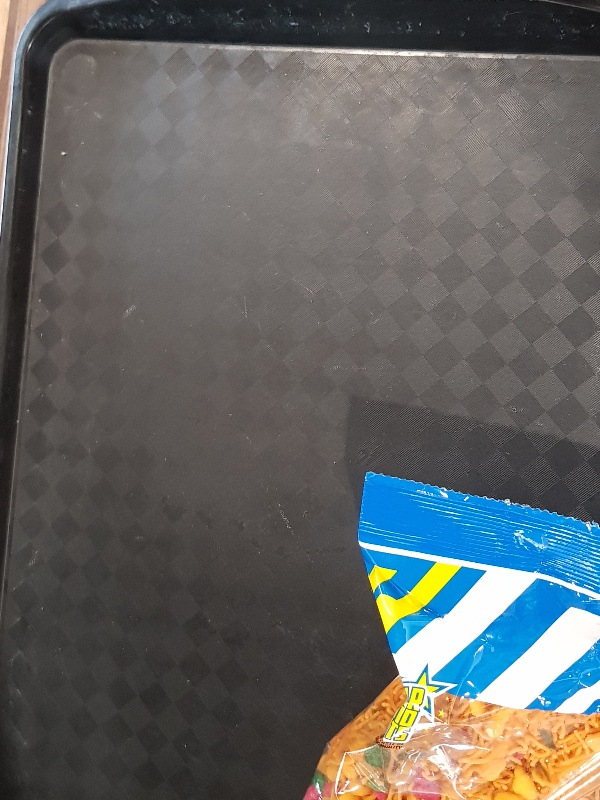Star Tidbits Mixer: (303, 469, 599, 800)
